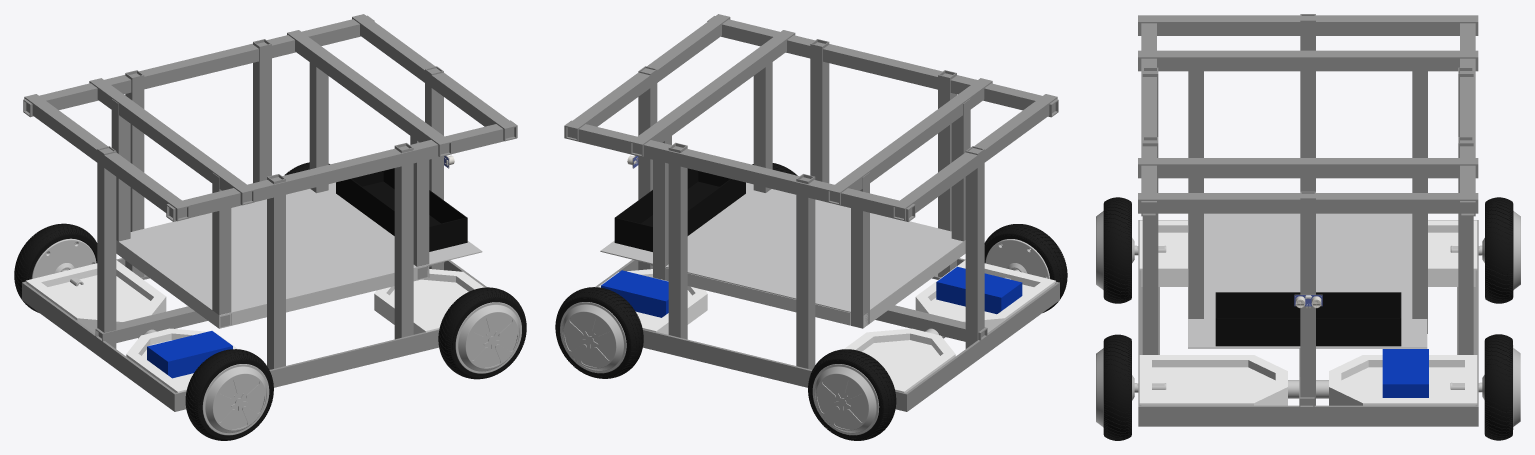
The model's file is ga-ai-robot.glb.
3 views of the same model, side by side, from view 1: azimuth 30°, elevation 25°; view 2: azimuth 150°, elevation 25°; view 3: azimuth 270°, elevation 25° (orthographic). The views are drawn at different scales.
Parts seen in each view (by area): view 1: Body1.057, Body1.064, Body1.045, Body1.044, Body1.029, Body1.061, Body1.040, Body31.002, Body31.003, Body1.041, Body1.043, Body1.037 (+21 smaller); view 2: Body1.057, Body1.064, Body1.044, Body1.045, Body1.061, Body1.029, Body31.001, Body31, Body1.040, Body1.043, Body1.041, Body1.035 (+22 smaller); view 3: Body1.057, Body1.061, Body1.064, Body1.031, Body1.042, Body1.041, Body1.040, Body1.043, Body1.030, Body1.034, Body1.008, Body1.009 (+20 smaller).
Boxes of the visible parts, x1,y1,x2,y2 form: Body1.057: (116, 189, 429, 316); Body1.064: (22, 258, 486, 411); Body1.045: (166, 120, 517, 221); Body1.044: (23, 15, 374, 117); Body1.029: (25, 260, 166, 333); Body1.061: (336, 168, 467, 251); Body1.040: (24, 94, 189, 221); Body31.002: (455, 302, 521, 373); Body31.003: (202, 364, 269, 435); Body1.041: (352, 14, 516, 141); Body1.043: (287, 30, 451, 156); Body1.037: (394, 143, 413, 339); Body1.057: (665, 189, 965, 312); Body1.064: (595, 258, 1059, 411); Body1.044: (564, 120, 915, 221); Body1.045: (707, 16, 1058, 117); Body1.061: (614, 168, 745, 251); Body1.029: (844, 328, 955, 392); Body31.001: (812, 364, 879, 435); Body31: (560, 302, 626, 373); Body1.040: (892, 94, 1057, 221); Body1.043: (630, 30, 795, 157); Body1.041: (565, 14, 730, 141); Body1.035: (965, 146, 984, 348); Body1.057: (1188, 213, 1412, 318); Body1.061: (1215, 292, 1401, 346); Body1.064: (1138, 220, 1478, 426); Body1.031: (1139, 355, 1287, 405); Body1.042: (1138, 50, 1478, 71); Body1.041: (1138, 193, 1478, 213); Body1.040: (1138, 15, 1478, 35); Body1.043: (1138, 158, 1478, 178); Body1.030: (1329, 355, 1477, 405); Body1.034: (1300, 191, 1315, 405); Body1.008: (1484, 334, 1512, 440); Body1.009: (1485, 197, 1513, 303).
Bounding box in the file's own units: 0.7278 × 0.466 × 0.6868.
